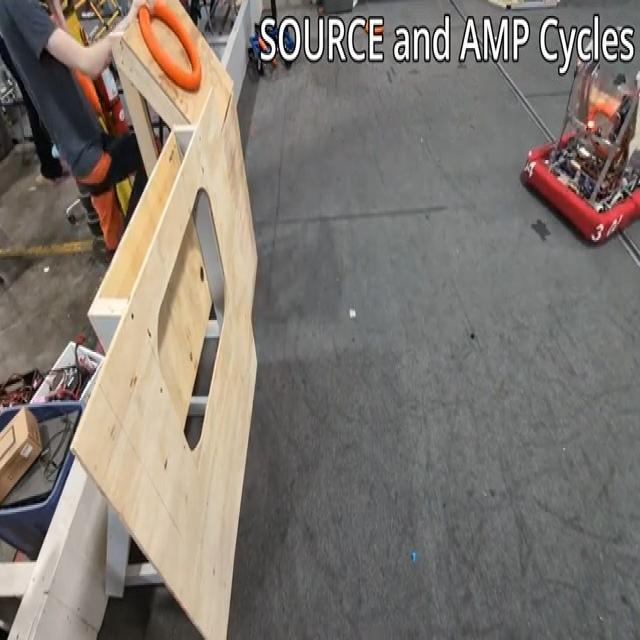note: (137, 0, 204, 95)
robot: (522, 50, 640, 242)
